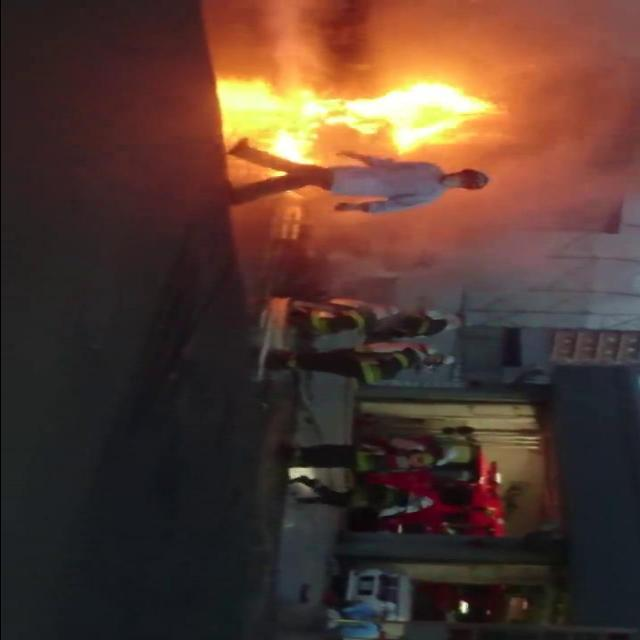Fire: (270, 73, 479, 161)
